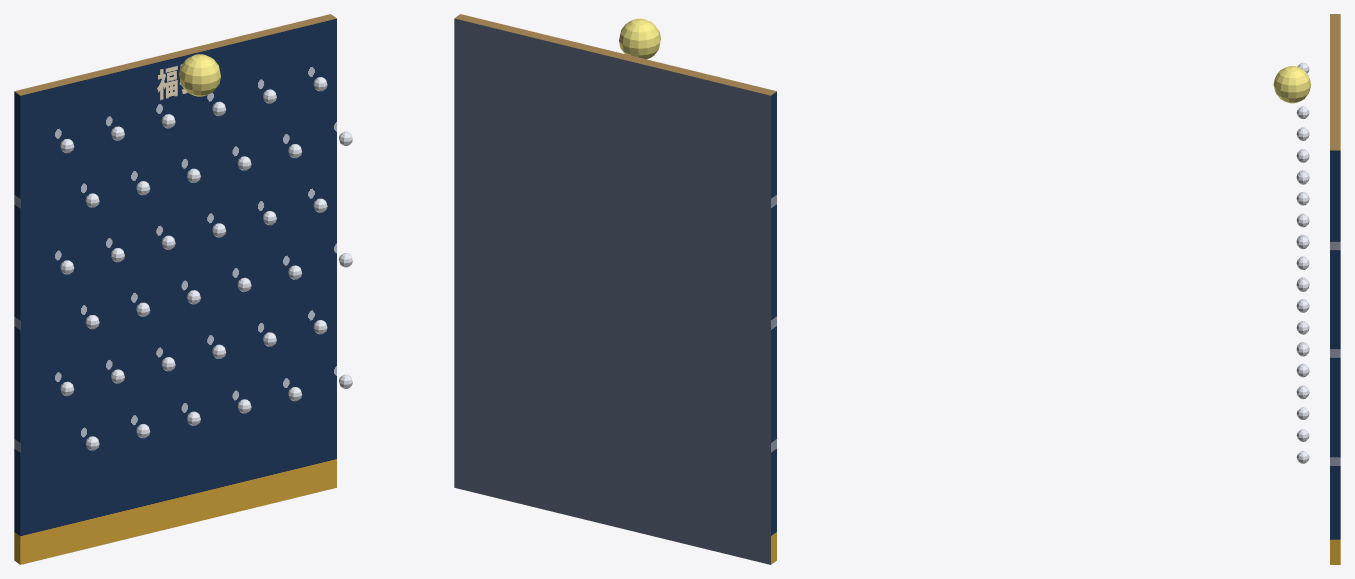
The model's file is pachinko_coupon_3d.glb.
The picture shows the model from 3 angles, left to right: view 1: azimuth 30°, elevation 25°; view 2: azimuth 150°, elevation 25°; view 3: azimuth 270°, elevation 25°; orthographic projection. The views are drawn at different scales.
Parts seen in each view (by area): view 1: pachinko_board, pachinko_ball; view 2: pachinko_board, pachinko_ball; view 3: pachinko_board, pachinko_ball.
Part boxes in pixels (x1,y1,x2,y2): pachinko_board: (14, 14, 336, 564); pachinko_ball: (179, 54, 220, 96); pachinko_board: (454, 14, 776, 564); pachinko_ball: (619, 18, 660, 59); pachinko_board: (1330, 14, 1340, 564); pachinko_ball: (1273, 66, 1311, 103).
Bounding box in the file's own units: 0.6 × 0.88 × 0.83.
42 materials, 3 textured.
